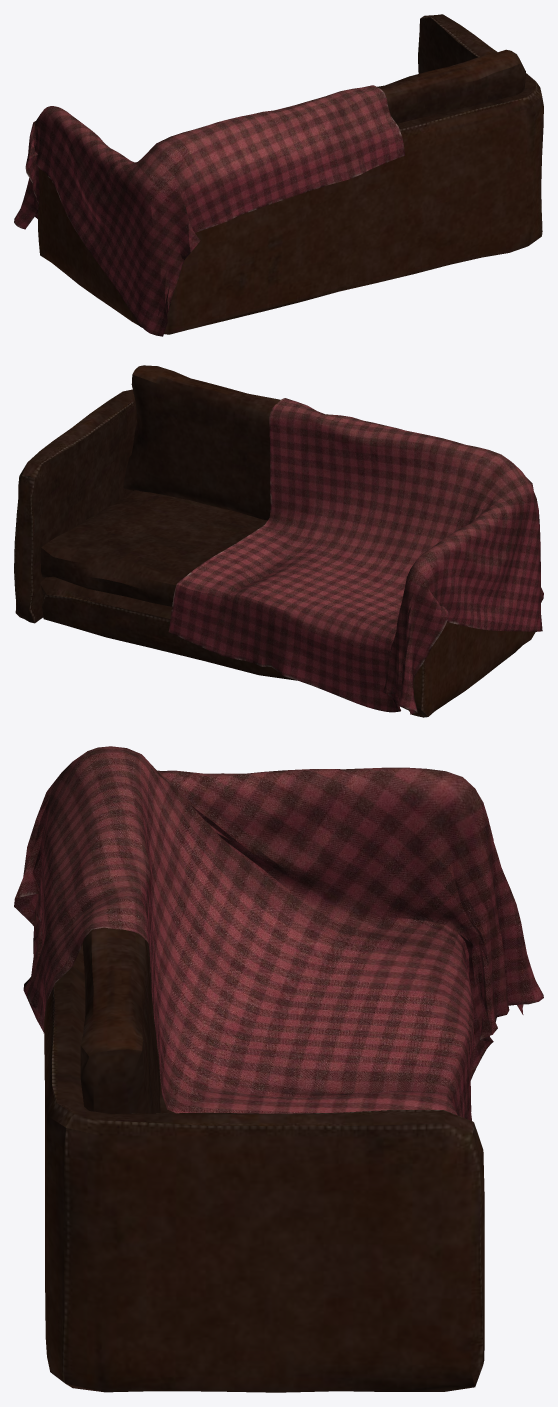
Rendered from sofa-manor-throw.glb.
3 views of the same model, one above another, from view 1: azimuth 30°, elevation 25°; view 2: azimuth 150°, elevation 25°; view 3: azimuth 270°, elevation 25° (orthographic). The views are drawn at different scales.
Visible parts, largest first — view 1: sofa-manor-throw; view 2: sofa-manor-throw; view 3: sofa-manor-throw.
Part boxes in pixels (x1,y1,x2,y2): sofa-manor-throw: (14,14,543,336); sofa-manor-throw: (14,365,543,717); sofa-manor-throw: (14,746,543,1392).
Size of the model in its own units: 2.2 by 0.9309 by 1.32.
2 materials, 2 textured.
